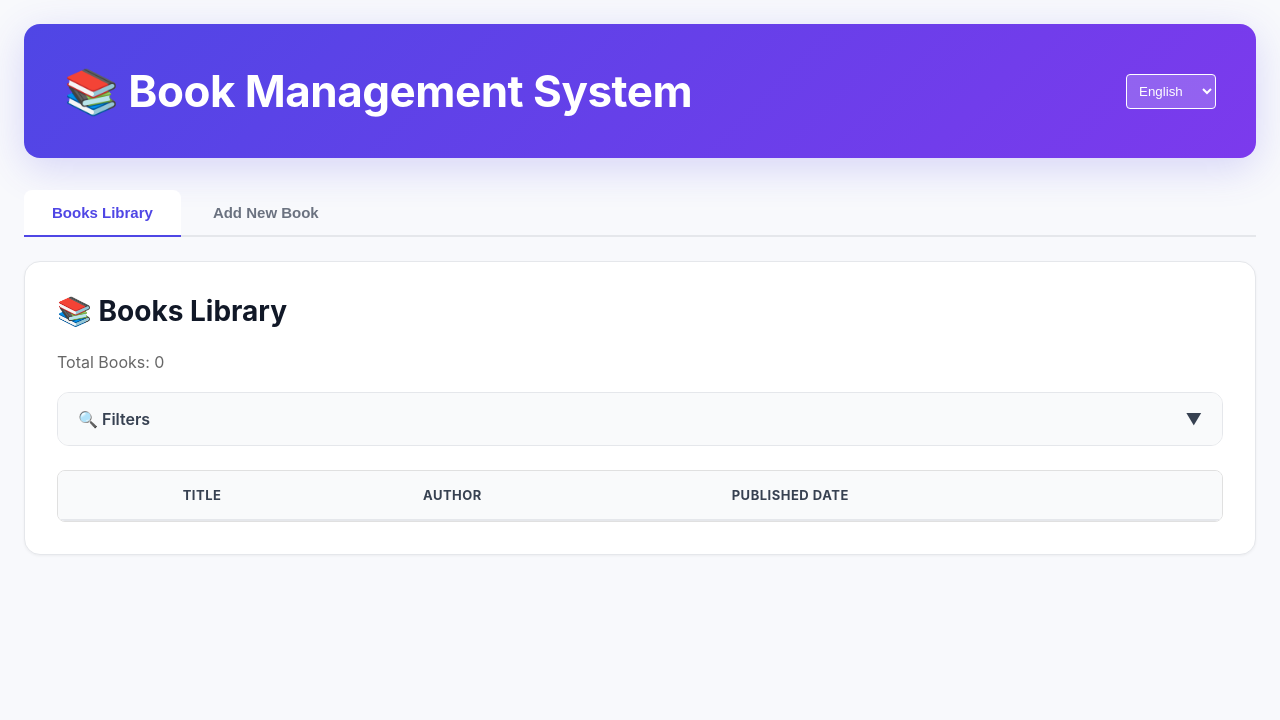
it: App Component › switches back to library tab
Click the button with test id "add-tab" at (266, 212), box left=185, top=190, right=347, bottom=235
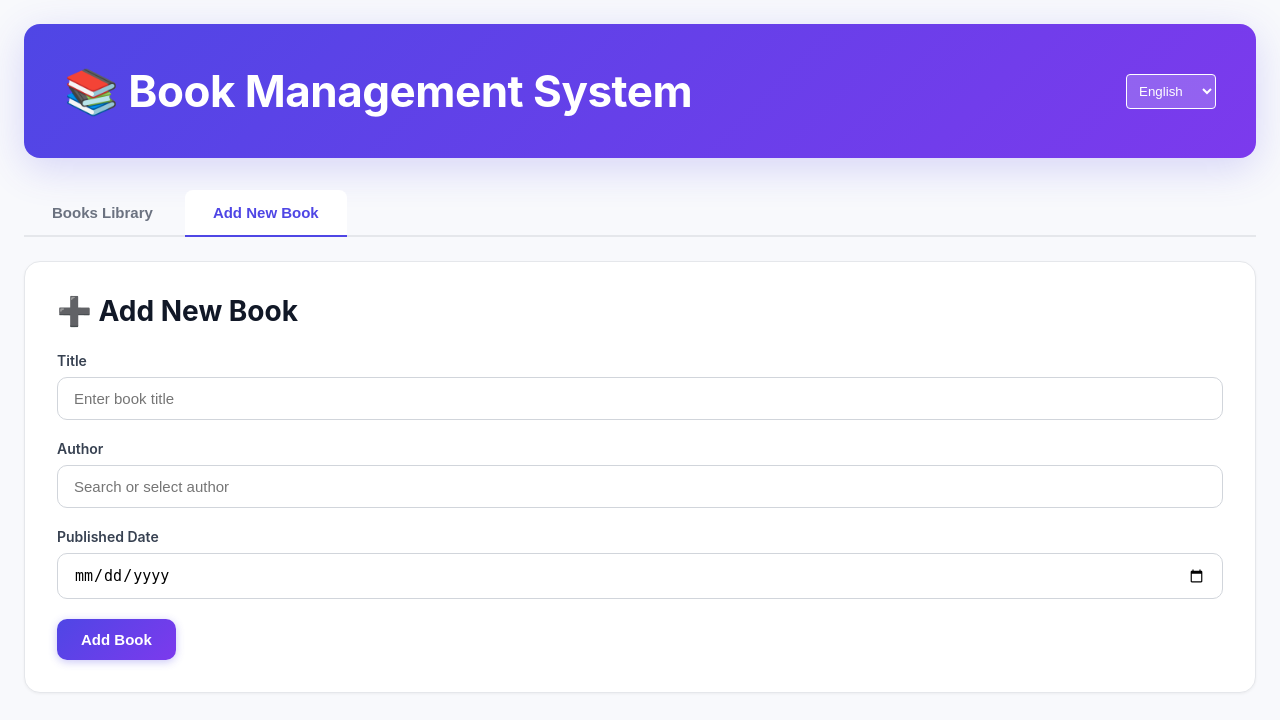
Click the button with test id "library-tab" at (102, 212), box left=24, top=190, right=181, bottom=235
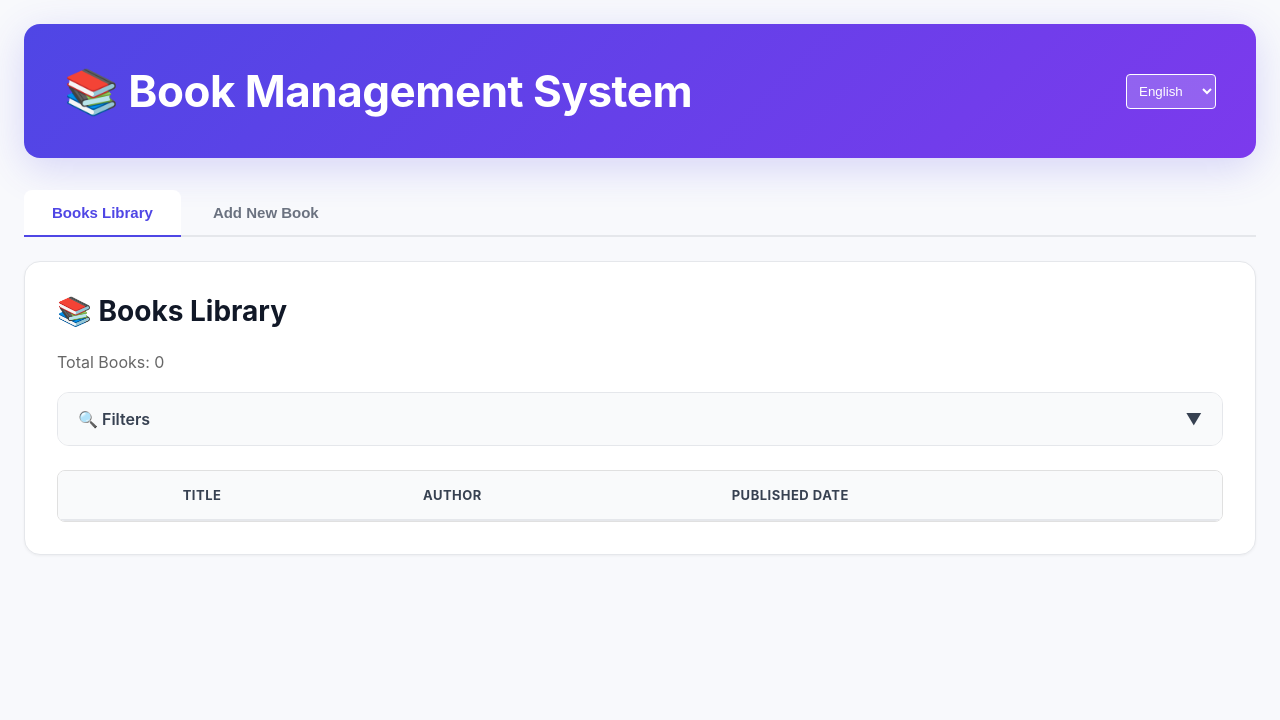
expect the element with test id "books-list" is shown: met, box left=24, top=261, right=1256, bottom=555
